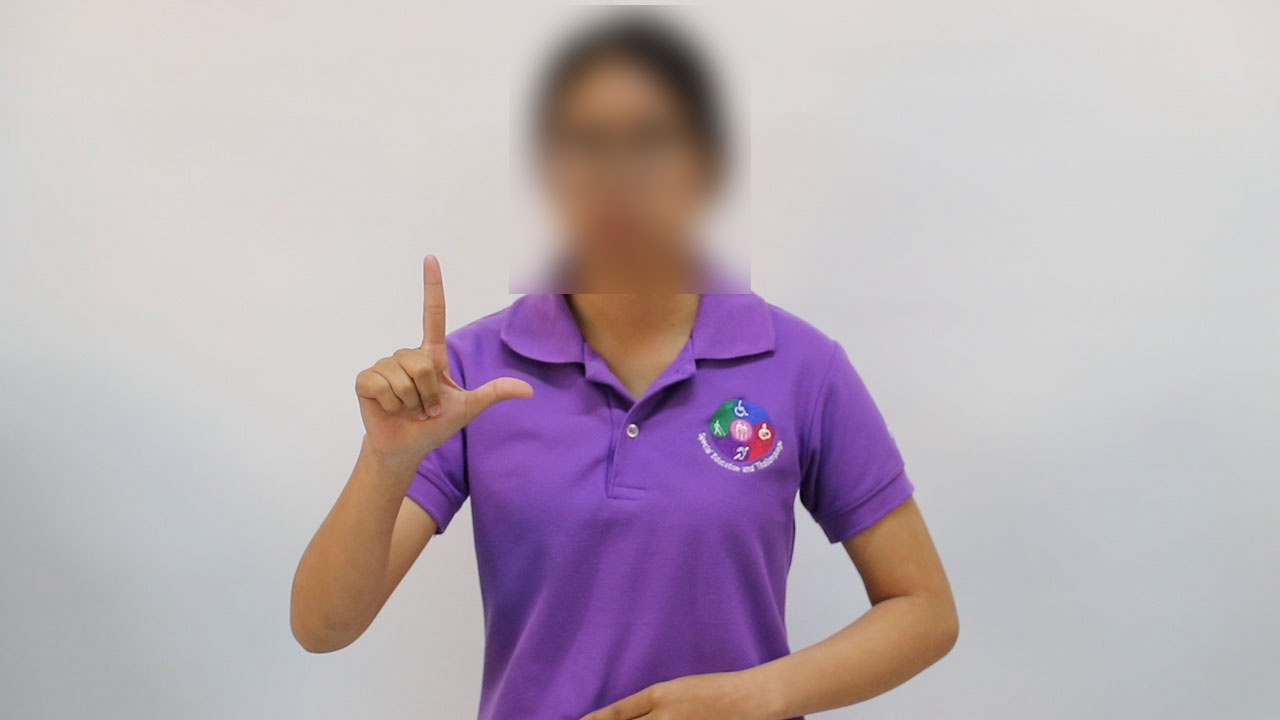lor: (343, 247, 542, 470)
